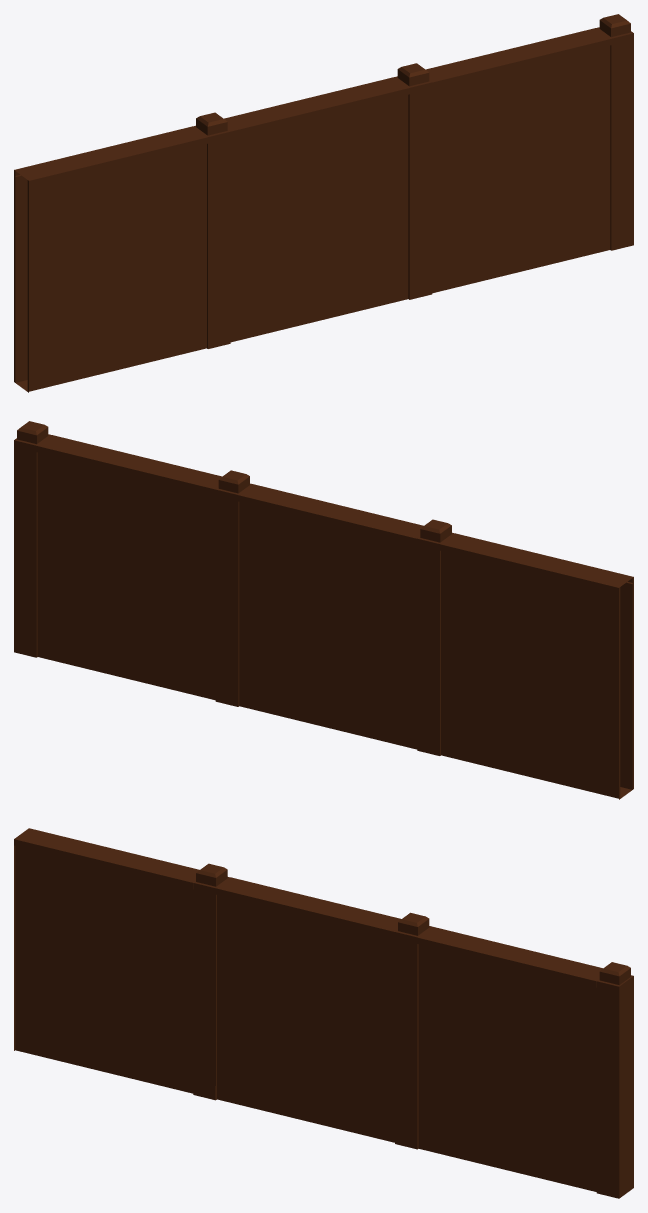
The model's file is Fence_modular.fbx.
3 renders of one model, top to bottom at view 1: azimuth 30°, elevation 25°; view 2: azimuth 150°, elevation 25°; view 3: azimuth 330°, elevation 25°, orthographic.
Parts seen in each view (by area): view 1: Fence_modular; view 2: Fence_modular; view 3: Fence_modular.
Boxes of the visible parts, x1=… form: Fence_modular: x1=14, y1=14, x2=633, y2=392; Fence_modular: x1=14, y1=421, x2=633, y2=799; Fence_modular: x1=14, y1=828, x2=633, y2=1198.
Size of the model in its own units: 47.55 by 16.79 by 2.06.
